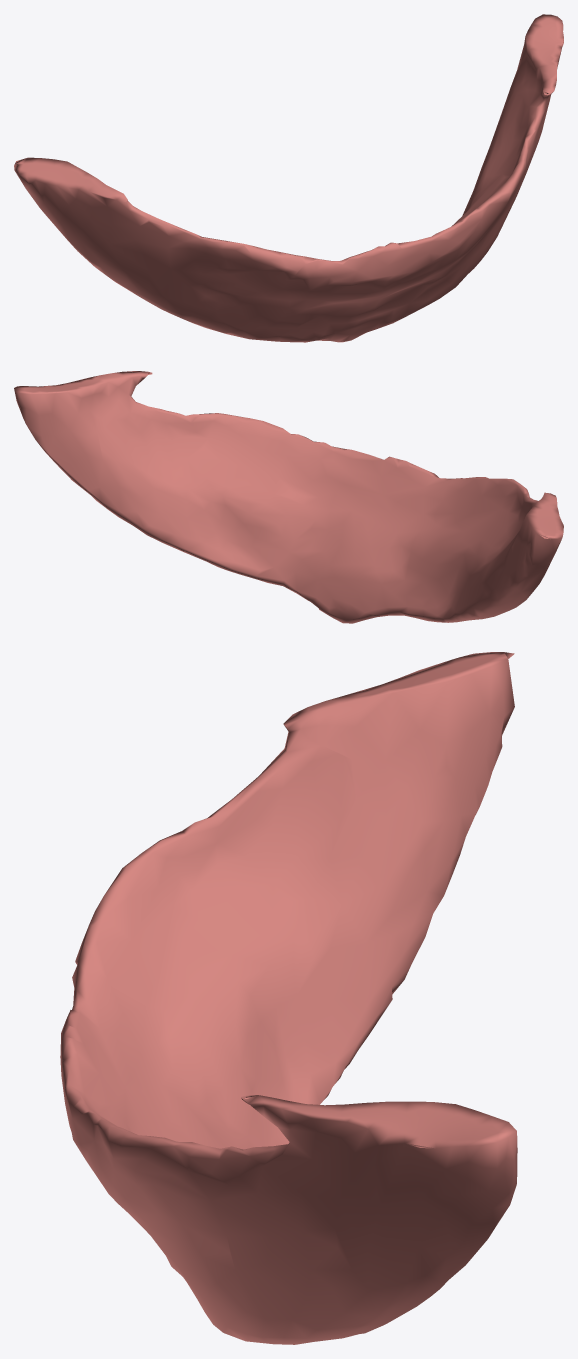
File: fma304661_mm1103.glb
The picture shows the model from 3 angles, top to bottom: view 1: azimuth 30°, elevation 25°; view 2: azimuth 150°, elevation 25°; view 3: azimuth 270°, elevation 25°; orthographic projection. The views are drawn at different scales.
Parts seen in each view (by area): view 1: FMA304661_MM1103; view 2: FMA304661_MM1103; view 3: FMA304661_MM1103.
Part boxes in pixels (left/top/right/bottom): FMA304661_MM1103: left=14, top=14, right=563, bottom=342; FMA304661_MM1103: left=14, top=371, right=563, bottom=623; FMA304661_MM1103: left=60, top=652, right=517, bottom=1344.
Size of the model in its own units: 0.0633 by 0.0238 by 0.0231.
